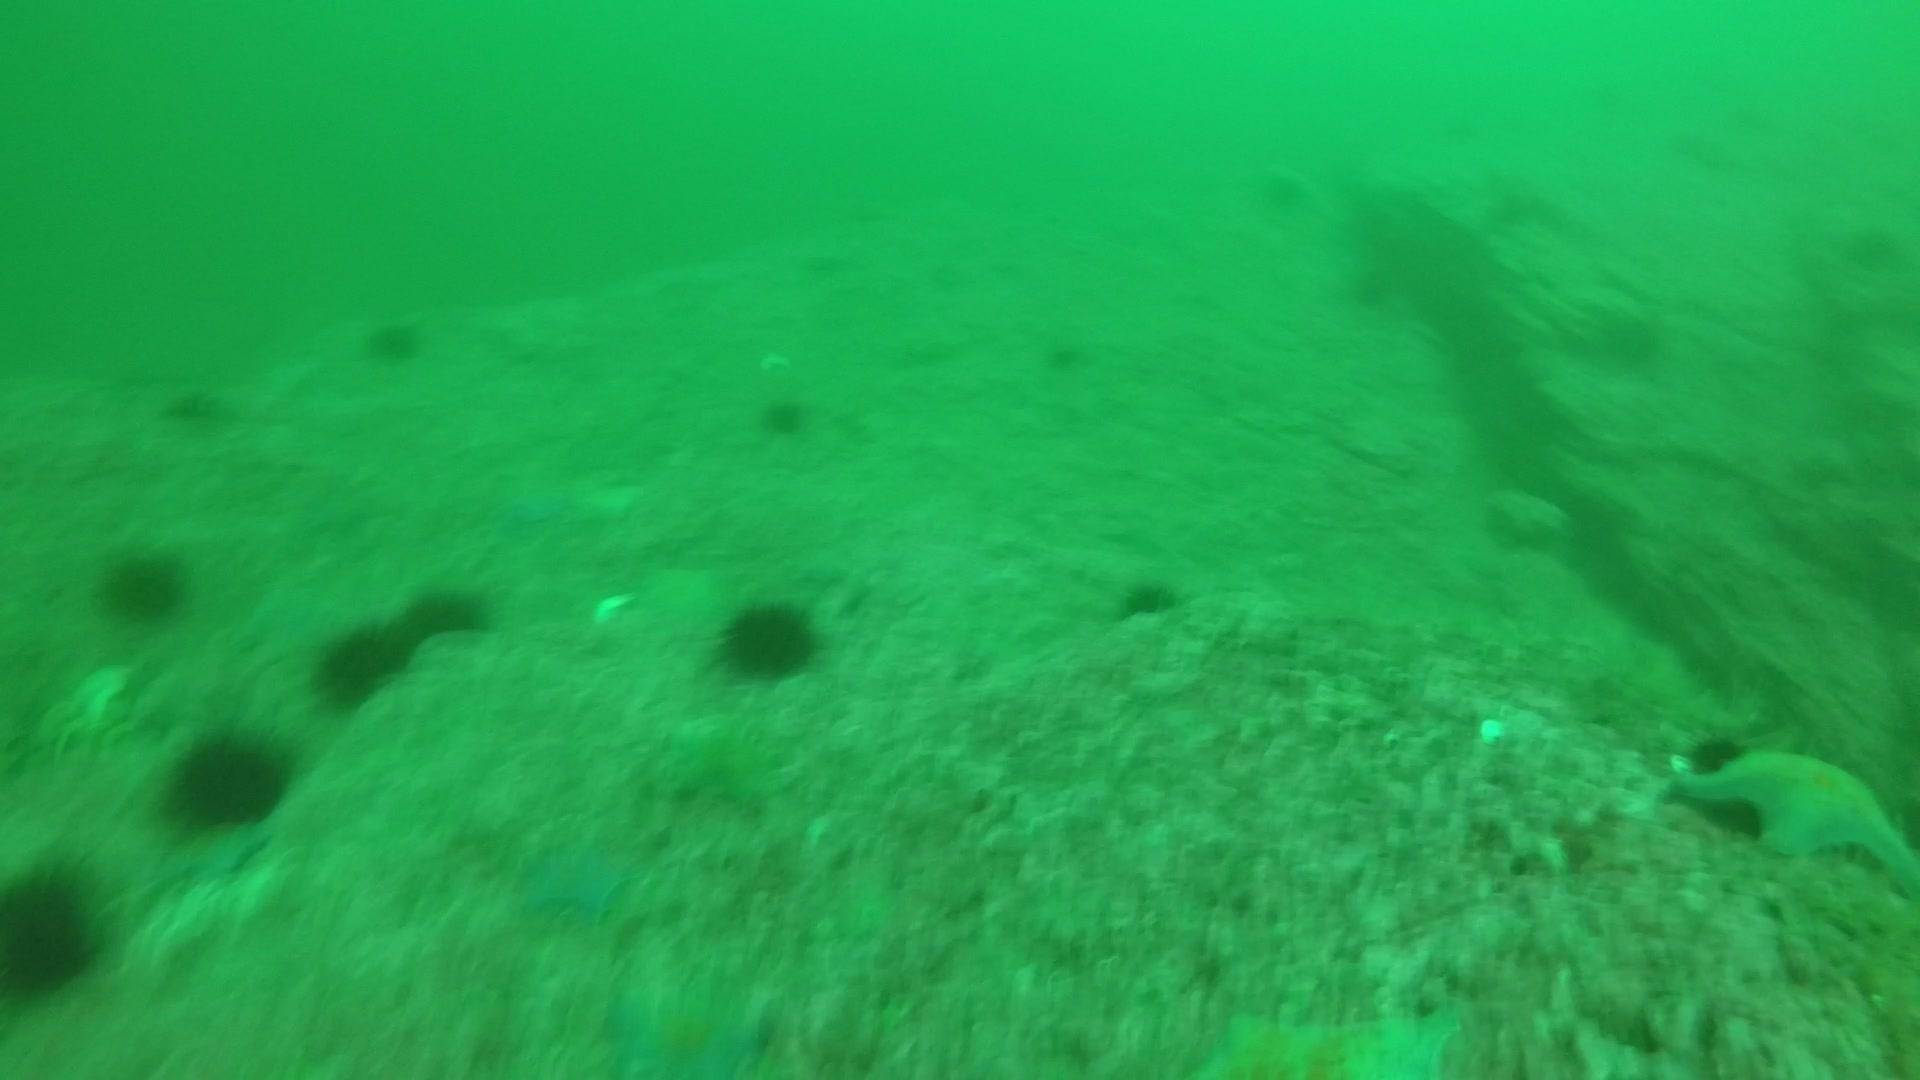echinus: (1, 858, 105, 1006), (160, 724, 297, 835), (712, 593, 825, 684), (309, 615, 415, 709), (95, 541, 193, 626), (392, 579, 492, 655), (359, 311, 429, 368), (158, 381, 233, 433), (1112, 571, 1183, 625), (1681, 725, 1749, 781), (1029, 336, 1088, 388), (1332, 265, 1391, 316), (1250, 158, 1309, 210), (756, 389, 814, 440)
starfish: (1662, 740, 1919, 891), (1197, 992, 1466, 1077), (603, 971, 774, 1079), (653, 709, 789, 816), (514, 829, 638, 926)
